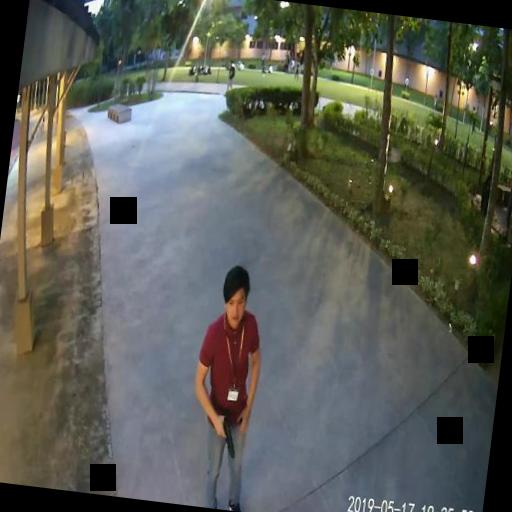Handgun: (214, 414, 238, 454)
